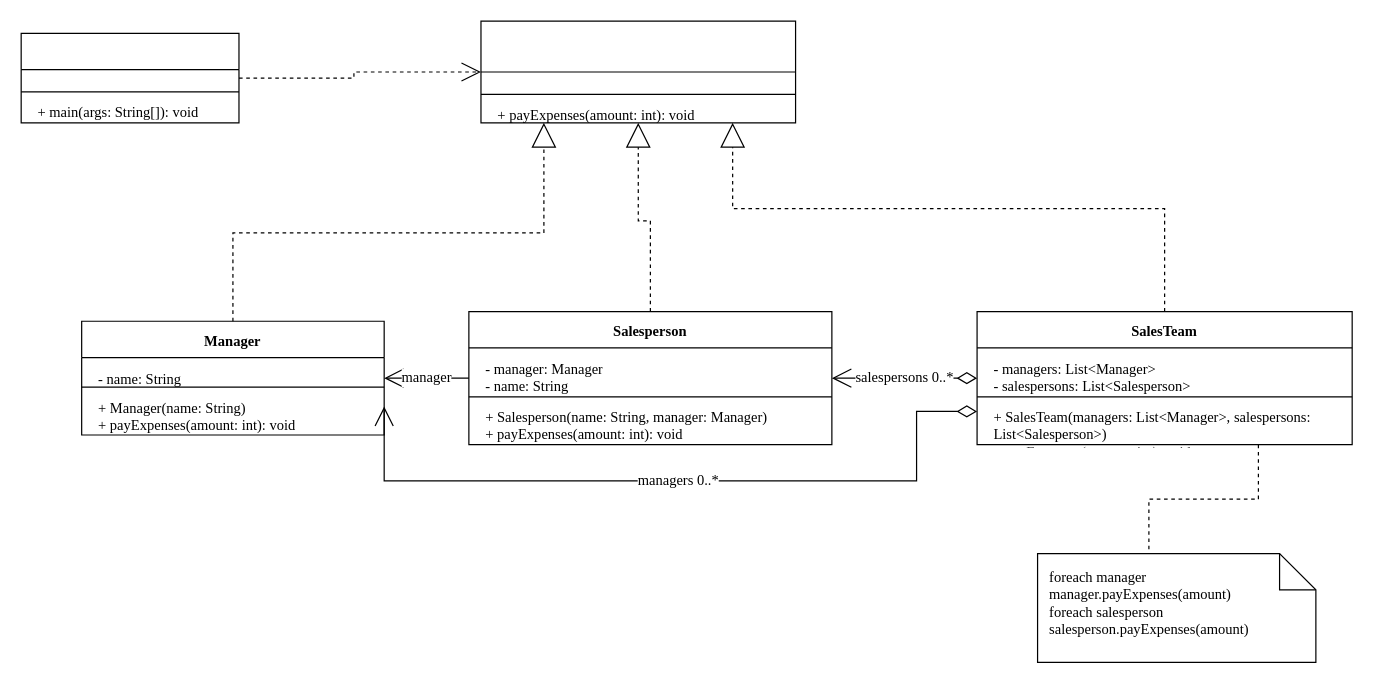
Image size: 1373x684. Some labels were removed from this diagram. The shapes that lost their labels are listed below. From the top down, each one's box as (x1, y1, x2, y2) in pixels, then its label:
(20, 32, 239, 123): Client
(480, 20, 796, 123): <<interface>> Payee
